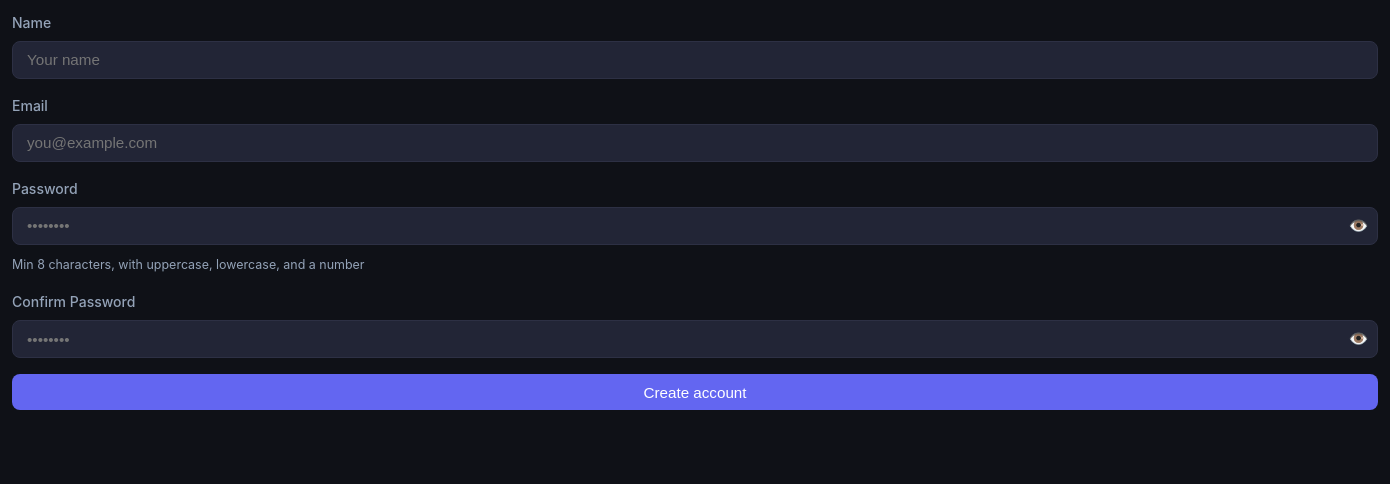
Test: SignupForm › shows error when passwords do not match
Type "Frank" into the field labelled "Name". click: (695, 60)
box: x1=12 y1=41 x2=1378 y2=79
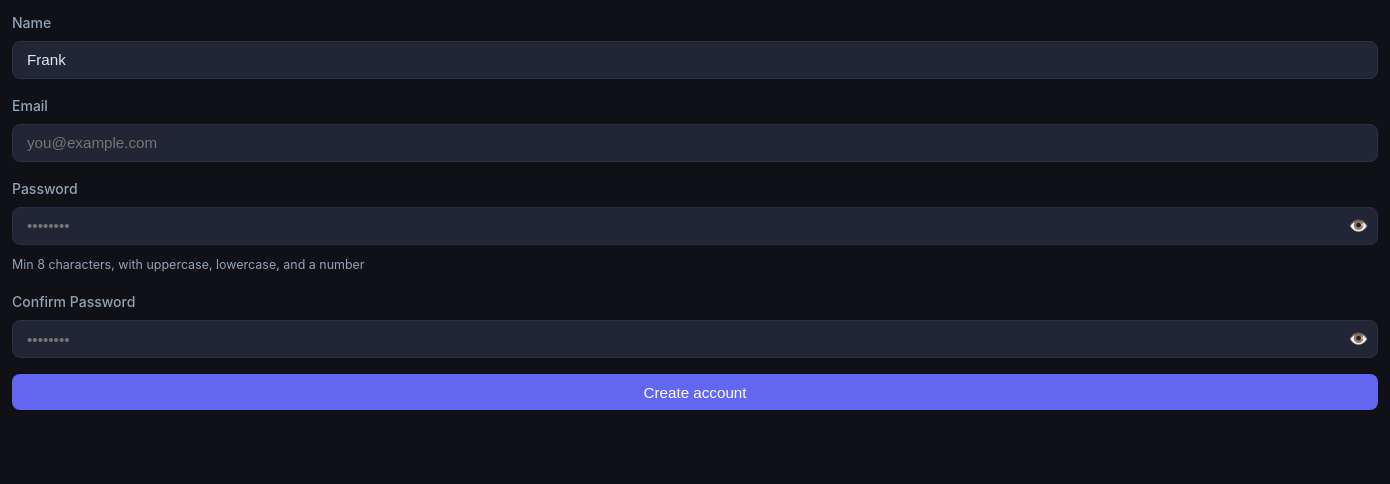
Type "frank@example.com" into the field labelled "Email". click: (695, 143)
box: x1=12 y1=124 x2=1378 y2=162
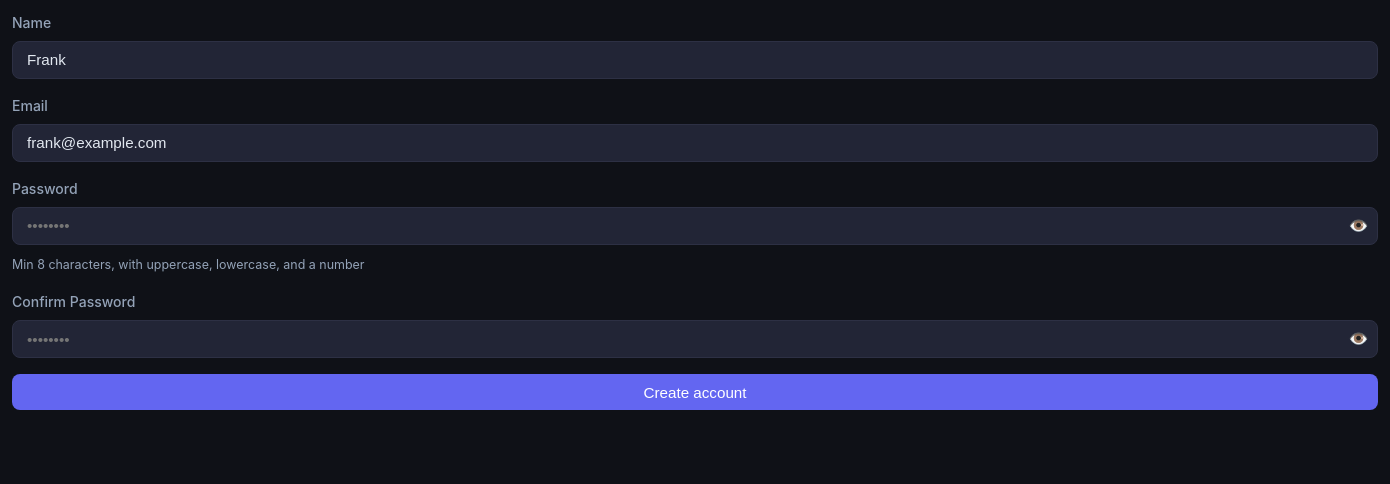
Type "password123" into the password field labelled "Password". click: (695, 226)
box: x1=12 y1=207 x2=1378 y2=245
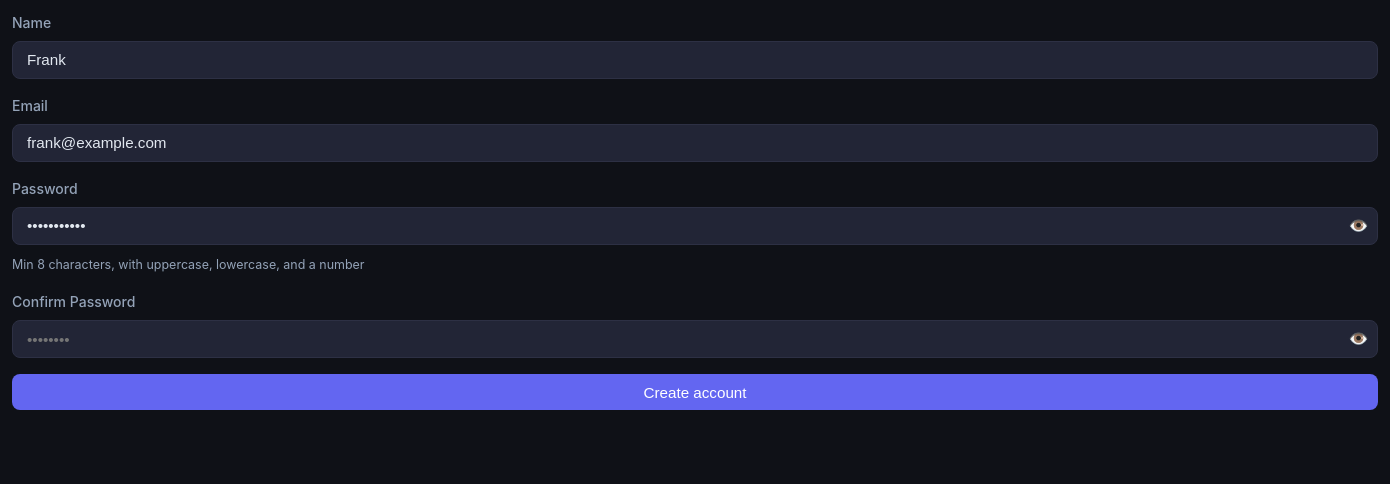
Type "different" into the password field labelled "Confirm Password". click: (695, 339)
box: x1=12 y1=320 x2=1378 y2=358
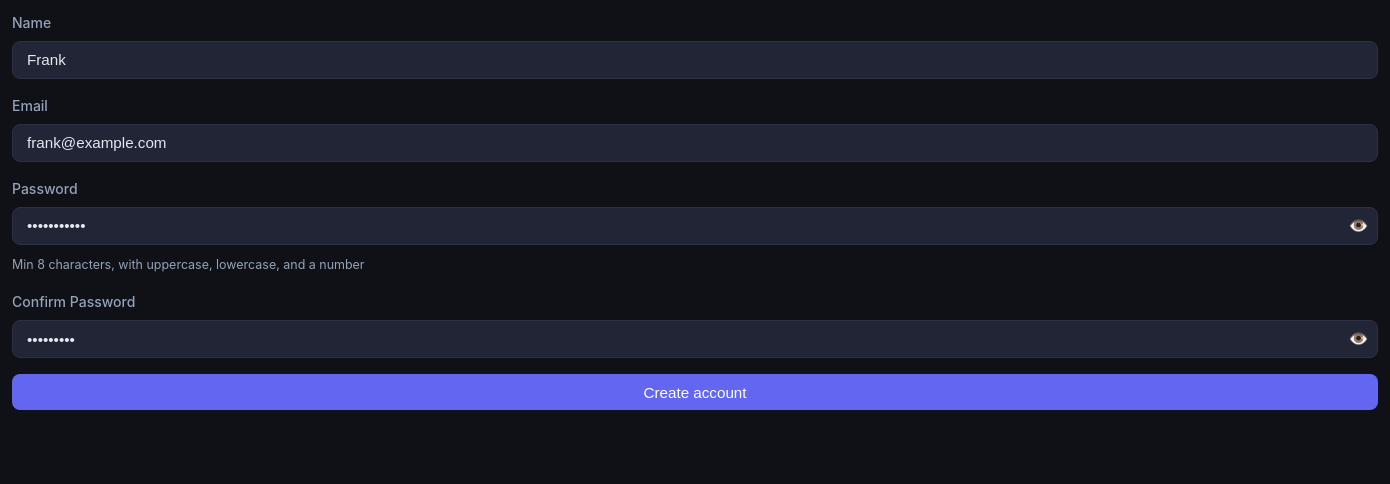
Click the button "Create account". click: (695, 392)
box: x1=12 y1=374 x2=1378 y2=410
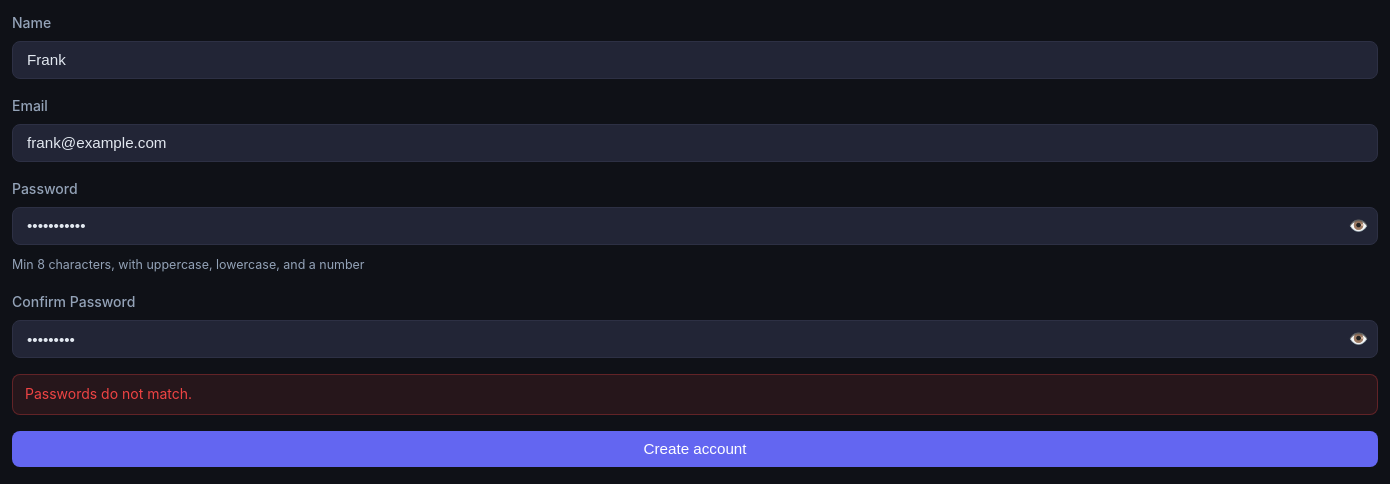
Expected: the text "Passwords do not match." is shown, x1=12 y1=374 x2=1378 y2=415
